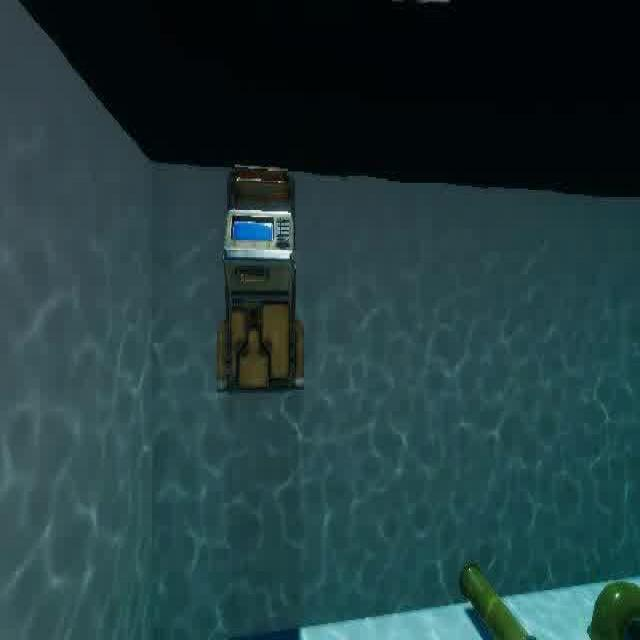Control Panel: (212, 153, 308, 400)
Pipe: (453, 543, 640, 640)
